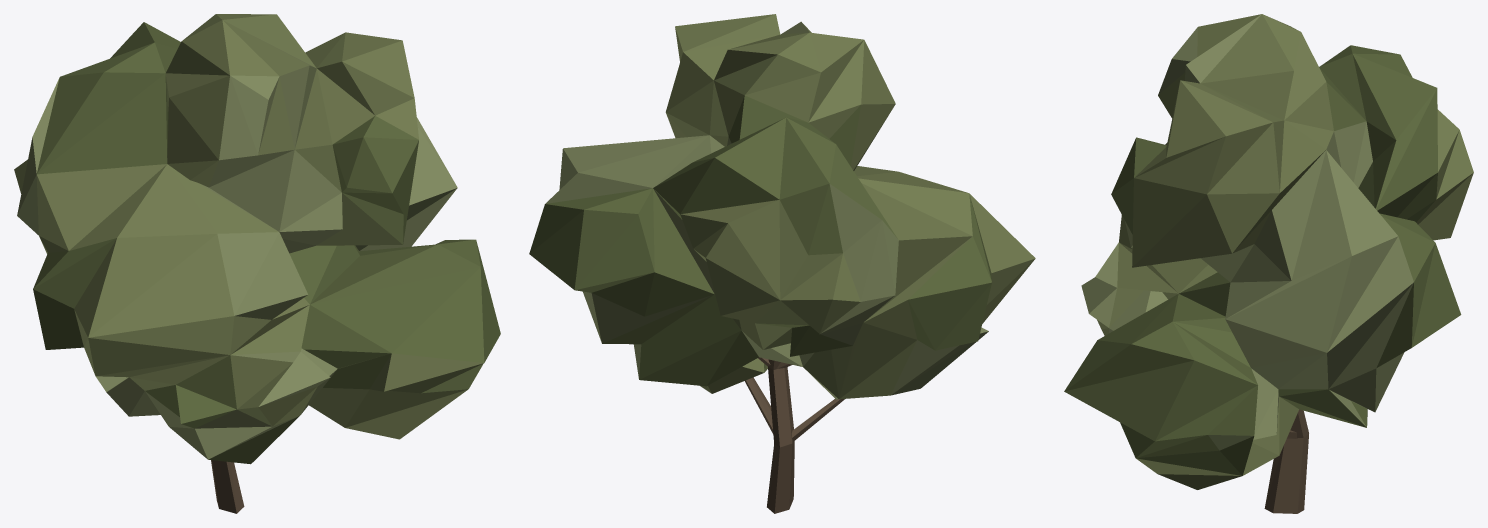
The picture shows the model from 3 angles, left to right: view 1: azimuth 30°, elevation 25°; view 2: azimuth 150°, elevation 25°; view 3: azimuth 270°, elevation 25°; orthographic projection. The views are drawn at different scales.
Visible parts, largest first — view 1: Лиственное · сквозистое; view 2: Лиственное · сквозистое; view 3: Лиственное · сквозистое.
Part boxes in pixels (x1,y1,x2,y2): Лиственное · сквозистое: (14, 14, 500, 513); Лиственное · сквозистое: (529, 14, 1035, 513); Лиственное · сквозистое: (1064, 14, 1473, 513).
Size of the model in its own units: 20.11 by 22.51 by 17.1.
